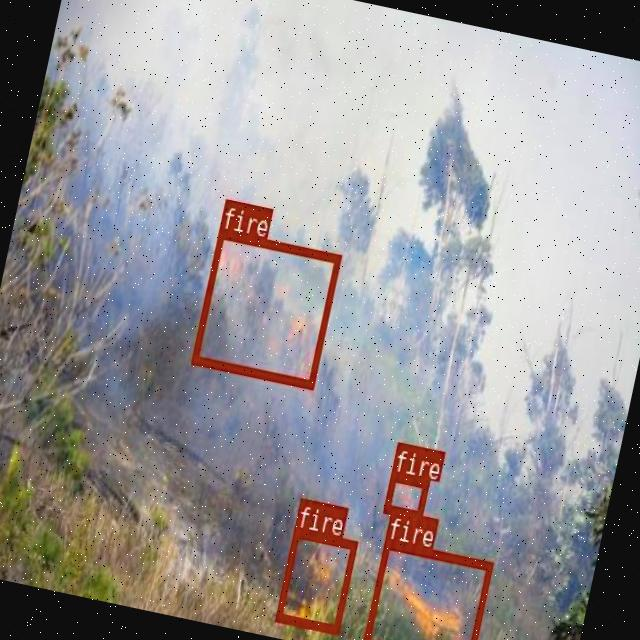fire: (190, 227, 340, 388), (361, 537, 493, 640), (275, 527, 357, 632), (382, 469, 429, 518)
